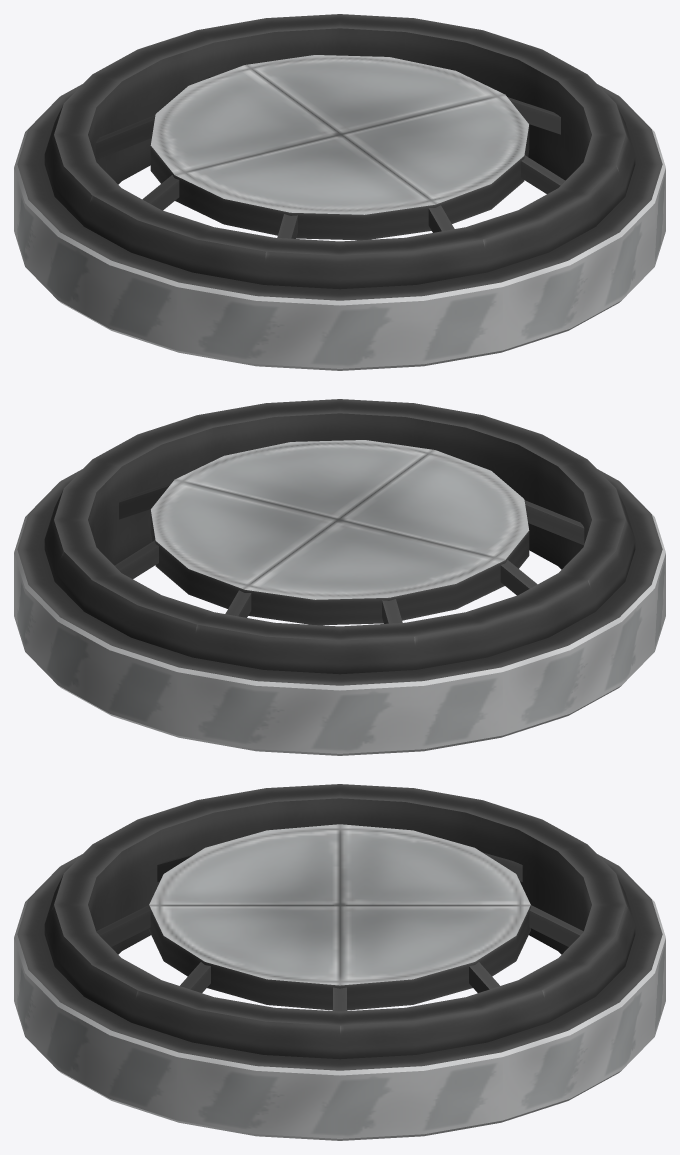
Rendered from bluedog_9375mFairing.dae.
The picture shows the model from 3 angles, top to bottom: view 1: azimuth 30°, elevation 25°; view 2: azimuth 150°, elevation 25°; view 3: azimuth 270°, elevation 25°; orthographic projection.
Parts seen in each view (by area): view 1: Fairing9376; view 2: Fairing9376; view 3: Fairing9376.
Boxes of the visible parts, x1=… form: Fairing9376: x1=14, y1=14, x2=665, y2=370; Fairing9376: x1=14, y1=399, x2=665, y2=755; Fairing9376: x1=14, y1=784, x2=665, y2=1140.
Bounding box in the file's own units: 0.9472 × 0.1598 × 0.9472.
